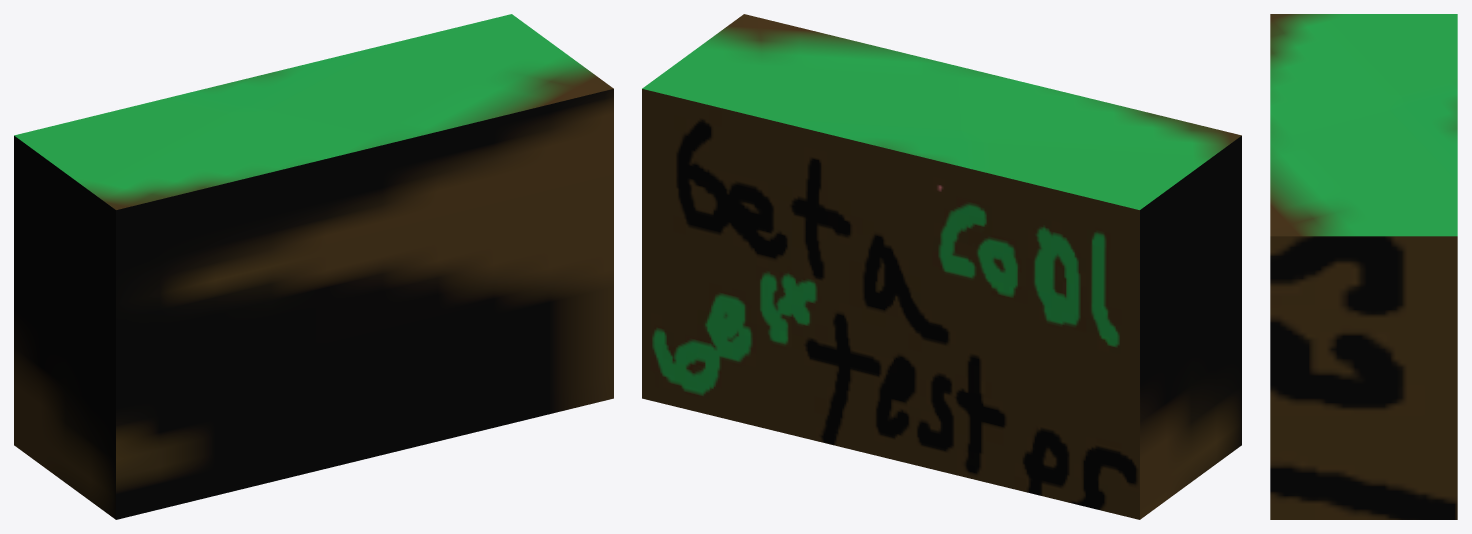
The model's file is item-badgebeta.glb.
The picture shows the model from 3 angles, left to right: view 1: azimuth 30°, elevation 25°; view 2: azimuth 150°, elevation 25°; view 3: azimuth 270°, elevation 25°; orthographic projection. The views are drawn at different scales.
Bounding box in the file's own units: 0.673 × 0.4001 × 0.2392.
Materials: 1 (1 with a texture image).
